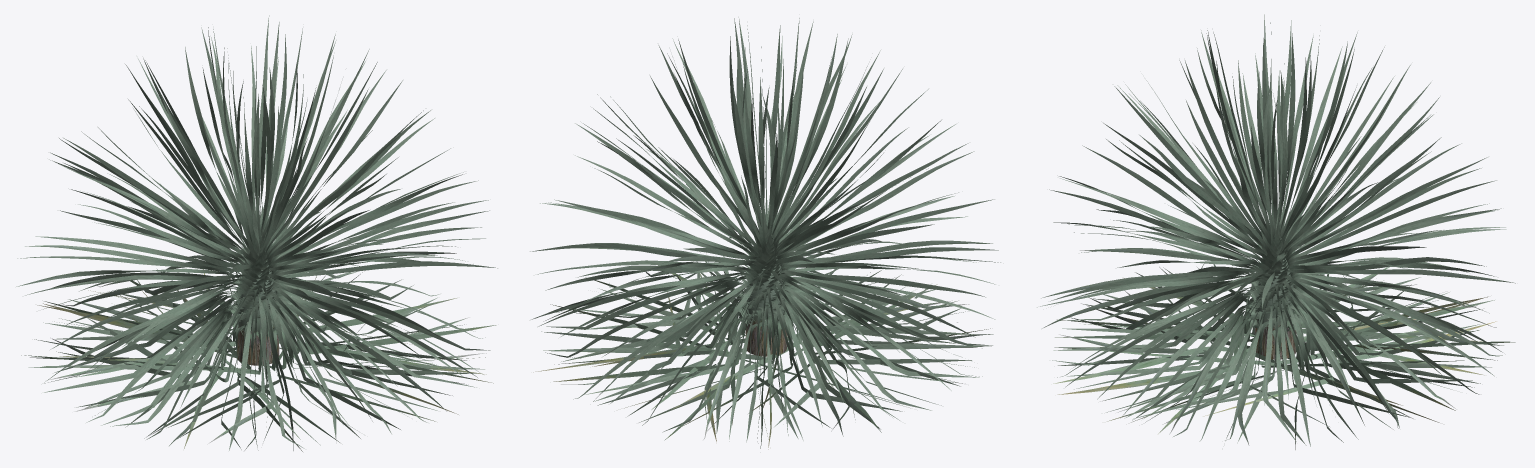
File: yucca-bleu.glb
3 renders of one model, left to right at view 1: azimuth 30°, elevation 25°; view 2: azimuth 150°, elevation 25°; view 3: azimuth 270°, elevation 25°, orthographic.
Parts seen in each view (by area): view 1: Yucca_rostrata_HD_Yucca rostr leaf 01_0, Yucca_rostrata_HD_Yucca rostr leaf 04_0, Yucca_rostrata_HD_Yucca rostr leaf 02_0, Yucca_rostrata_HD_Yucca rostr leaf 03_0, Yucca_rostrata_HD_Yucca rostr bark 01_0, Yucca_rostrata_HD_Yucca rostr crownshaft 01_0; view 2: Yucca_rostrata_HD_Yucca rostr leaf 01_0, Yucca_rostrata_HD_Yucca rostr leaf 04_0, Yucca_rostrata_HD_Yucca rostr leaf 03_0, Yucca_rostrata_HD_Yucca rostr leaf 02_0, Yucca_rostrata_HD_Yucca rostr bark 01_0, Yucca_rostrata_HD_Yucca rostr crownshaft 01_0; view 3: Yucca_rostrata_HD_Yucca rostr leaf 01_0, Yucca_rostrata_HD_Yucca rostr leaf 04_0, Yucca_rostrata_HD_Yucca rostr leaf 03_0, Yucca_rostrata_HD_Yucca rostr leaf 02_0, Yucca_rostrata_HD_Yucca rostr crownshaft 01_0, Yucca_rostrata_HD_Yucca rostr bark 01_0.
Part boxes in pixels (<box>): Yucca_rostrata_HD_Yucca rostr leaf 01_0: <box>16,15,497,450</box>; Yucca_rostrata_HD_Yucca rostr leaf 04_0: <box>37,273,496,451</box>; Yucca_rostrata_HD_Yucca rostr leaf 02_0: <box>21,301,435,424</box>; Yucca_rostrata_HD_Yucca rostr leaf 03_0: <box>88,269,493,422</box>; Yucca_rostrata_HD_Yucca rostr bark 01_0: <box>237,330,279,365</box>; Yucca_rostrata_HD_Yucca rostr crownshaft 01_0: <box>237,260,276,333</box>; Yucca_rostrata_HD_Yucca rostr leaf 01_0: <box>530,17,1000,443</box>; Yucca_rostrata_HD_Yucca rostr leaf 04_0: <box>533,261,990,449</box>; Yucca_rostrata_HD_Yucca rostr leaf 03_0: <box>553,262,907,441</box>; Yucca_rostrata_HD_Yucca rostr leaf 02_0: <box>730,267,881,448</box>; Yucca_rostrata_HD_Yucca rostr bark 01_0: <box>745,322,787,356</box>; Yucca_rostrata_HD_Yucca rostr crownshaft 01_0: <box>746,250,784,324</box>; Yucca_rostrata_HD_Yucca rostr leaf 01_0: <box>1037,14,1515,446</box>; Yucca_rostrata_HD_Yucca rostr leaf 04_0: <box>1055,278,1515,449</box>; Yucca_rostrata_HD_Yucca rostr leaf 03_0: <box>1107,304,1496,421</box>; Yucca_rostrata_HD_Yucca rostr leaf 02_0: <box>1053,266,1494,383</box>; Yucca_rostrata_HD_Yucca rostr crownshaft 01_0: <box>1255,258,1293,328</box>; Yucca_rostrata_HD_Yucca rostr bark 01_0: <box>1254,327,1296,359</box>.
Bounding box in the file's own units: 1.05 × 0.7421 × 1.04.
Materials: 6 (6 with a texture image).
